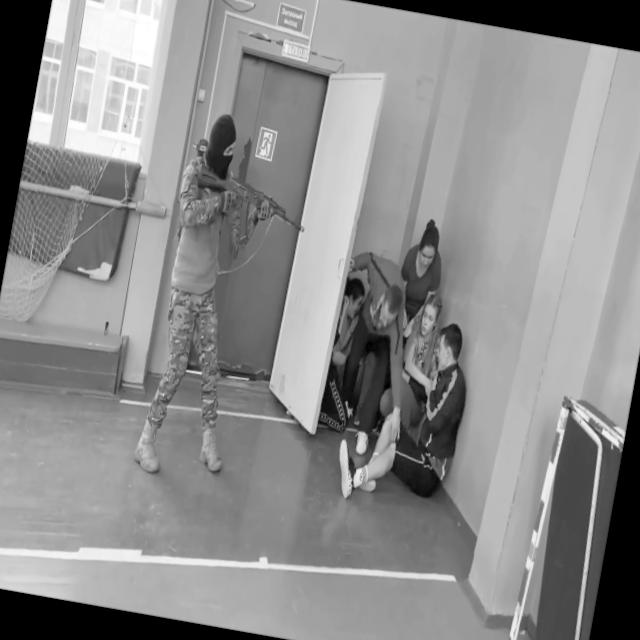gun: (186, 157, 314, 255)
person: (329, 306, 479, 518), (317, 246, 430, 460), (374, 286, 448, 444), (316, 274, 372, 433), (390, 214, 451, 342)
person with a gun: (130, 105, 323, 492)
